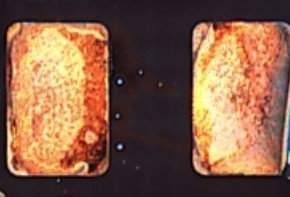MISSING: (2, 14, 123, 185), (177, 10, 290, 183)
